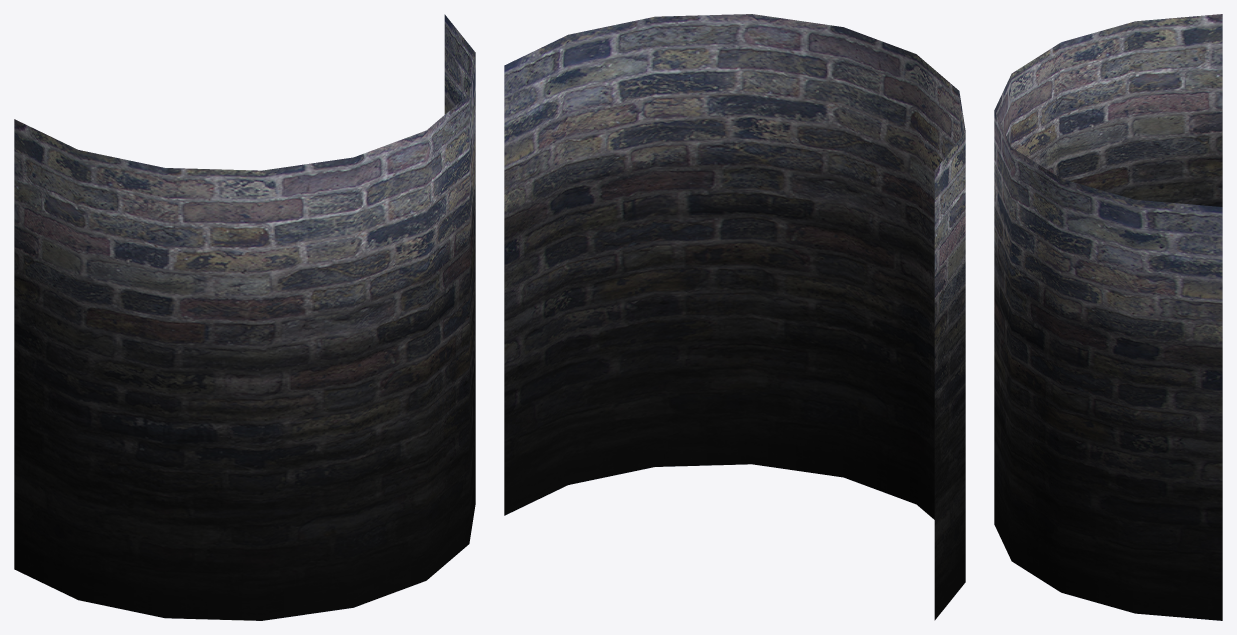
Rendered from pitGeo1.fbx.
3 renders of one model, left to right at view 1: azimuth 30°, elevation 25°; view 2: azimuth 150°, elevation 25°; view 3: azimuth 270°, elevation 25°, orthographic. The views are drawn at different scales.
Parts seen in each view (by area): view 1: pitGeo; view 2: pitGeo; view 3: pitGeo.
Boxes of the visible parts, left/top/right/bottom form: pitGeo: left=14, top=14, right=475, bottom=620; pitGeo: left=504, top=14, right=965, bottom=620; pitGeo: left=994, top=14, right=1222, bottom=620.
Bounding box in the file's own units: 2 × 2 × 1.
